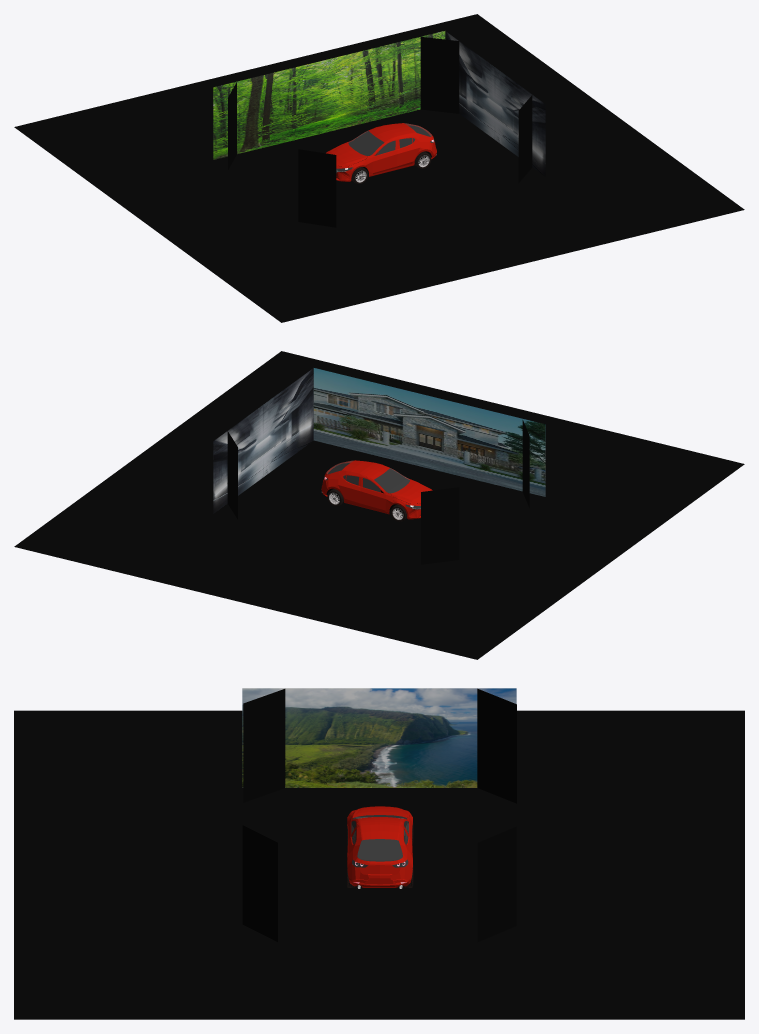
The model's file is mazda3.glb.
3 renders of one model, top to bottom at view 1: azimuth 30°, elevation 25°; view 2: azimuth 150°, elevation 25°; view 3: azimuth 270°, elevation 25°, orthographic. The views are drawn at different scales.
Parts seen in each view (by area): view 1: Ground, Side(R), Back, Car body, Sidepanel4, Sidepanel2, Sidepanle1, Cube, Sidepanel3; view 2: Ground, Side(L), Back, Car body, Sidepanel3, Cube, Sidepanel4, Sidepanel2; view 3: Ground, Front, Car body, Sidepanel2, Sidepanel3, Sidepanel4, Sidepanle1, Cube.
Boxes of the visible parts, x1,y1,x2,y2 form: Ground: [14, 14, 744, 322]; Side(R): [213, 31, 445, 159]; Back: [445, 31, 545, 176]; Car body: [326, 123, 436, 181]; Sidepanel4: [420, 37, 459, 113]; Sidepanel2: [298, 149, 336, 227]; Sidepanle1: [518, 95, 532, 182]; Cube: [336, 125, 432, 175]; Sidepanel3: [228, 82, 236, 169]; Ground: [14, 351, 744, 659]; Side(L): [313, 368, 545, 496]; Back: [213, 368, 313, 513]; Car body: [321, 460, 432, 519]; Sidepanel3: [421, 487, 459, 564]; Cube: [326, 463, 420, 513]; Sidepanel4: [227, 431, 237, 519]; Sidepanel2: [522, 420, 529, 507]; Ground: [14, 710, 744, 1019]; Front: [242, 688, 516, 787]; Car body: [347, 806, 412, 887]; Sidepanel2: [243, 689, 285, 802]; Sidepanel3: [477, 688, 516, 803]; Sidepanel4: [477, 826, 516, 941]; Sidepanle1: [242, 825, 277, 941]; Cube: [351, 815, 407, 867].
Size of the model in its own units: 40 by 6 by 40.
13 materials, 4 textured.
